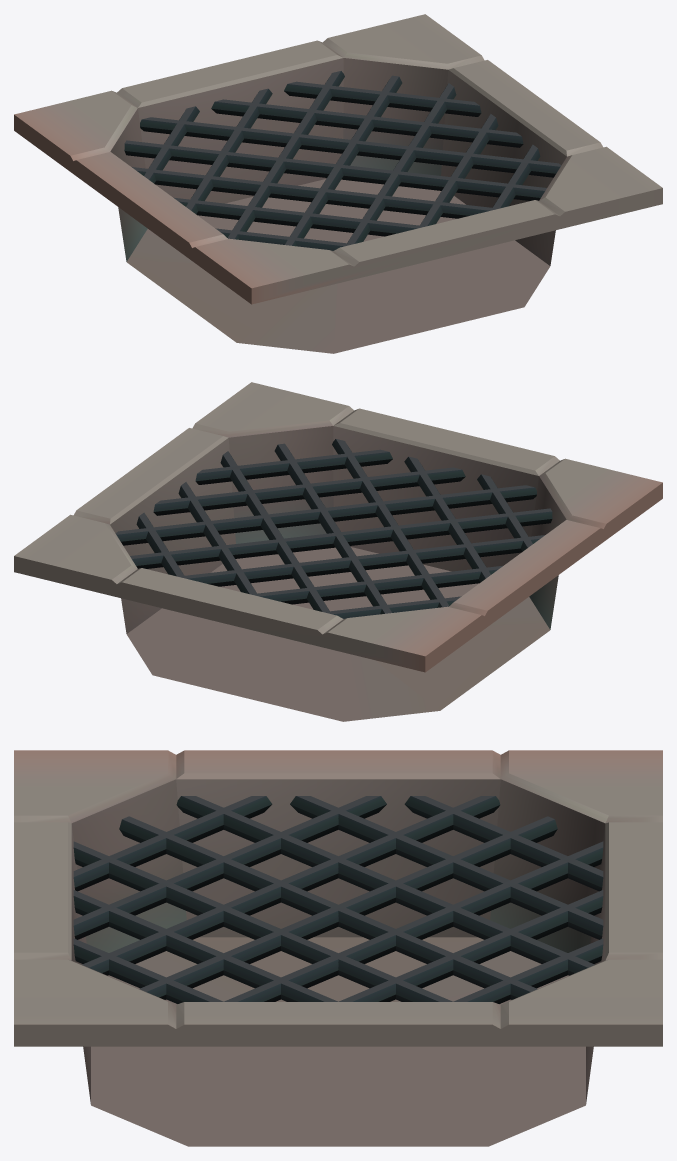
The model's file is floor_tile_big_grate.glb.
3 renders of one model, top to bottom at view 1: azimuth 30°, elevation 25°; view 2: azimuth 150°, elevation 25°; view 3: azimuth 270°, elevation 25°, orthographic. The views are drawn at different scales.
Parts seen in each view (by area): view 1: floor_tile_big_grate; view 2: floor_tile_big_grate; view 3: floor_tile_big_grate.
Part boxes in pixels (<box>): floor_tile_big_grate: <box>14,14,662,353</box>; floor_tile_big_grate: <box>14,382,662,721</box>; floor_tile_big_grate: <box>14,750,662,1146</box>.
Size of the model in its own units: 4 by 1.05 by 4.
Materials: 1 (1 with a texture image).
